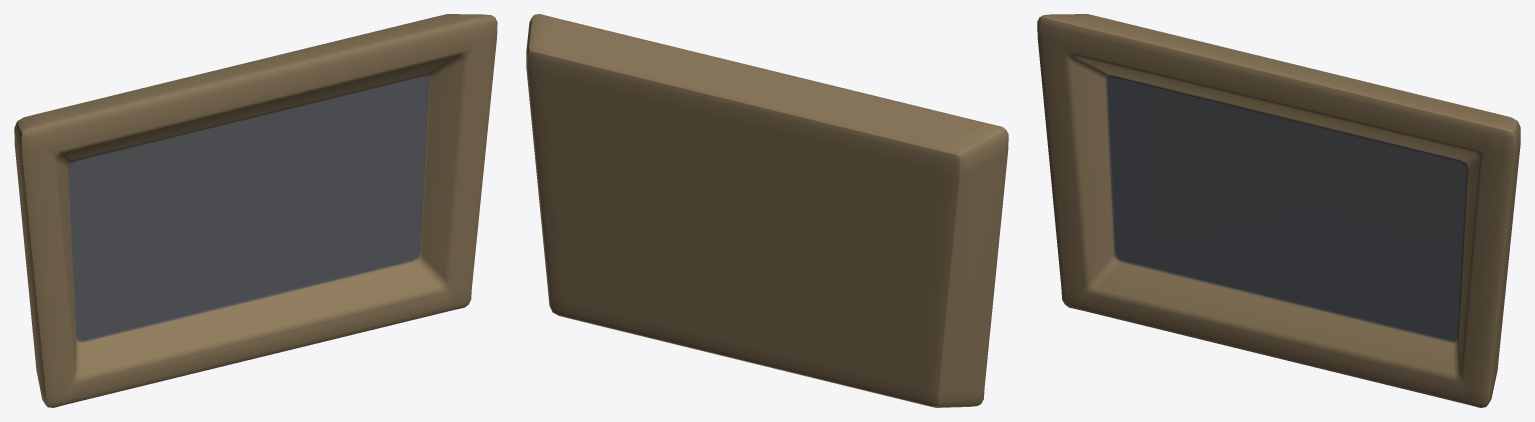
The model's file is SM_FrameShort.fbx.
3 views of the same model, side by side, from view 1: azimuth 30°, elevation 25°; view 2: azimuth 150°, elevation 25°; view 3: azimuth 330°, elevation 25° (orthographic).
Visible parts, largest first — view 1: SM_FrameShort; view 2: SM_FrameShort; view 3: SM_FrameShort.
Boxes of the visible parts, x1=… form: SM_FrameShort: x1=14, y1=14, x2=497, y2=407; SM_FrameShort: x1=526, y1=14, x2=1008, y2=407; SM_FrameShort: x1=1037, y1=14, x2=1520, y2=407.
Bounding box in the file's own units: 285 × 163 × 31.12.
